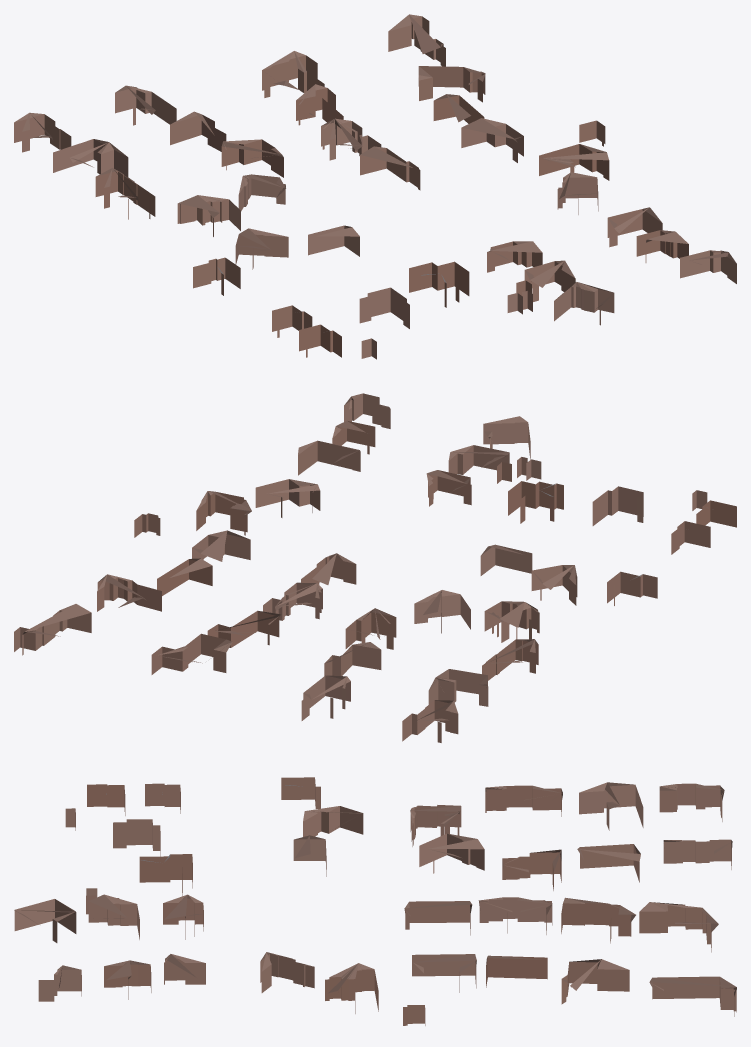
Rendered from c_1648_17825_buildings_residential.glb.
3 renders of one model, top to bottom at view 1: azimuth 30°, elevation 25°; view 2: azimuth 150°, elevation 25°; view 3: azimuth 270°, elevation 25°, orthographic. The views are drawn at different scales.
Parts seen in each view (by area): view 1: geometry_0; view 2: geometry_0; view 3: geometry_0.
Part boxes in pixels (x1,y1,x2,y2): geometry_0: (14,14,736,359); geometry_0: (14,393,736,742); geometry_0: (14,777,736,1025).
Size of the model in its own units: 213 by 11.08 by 279.
